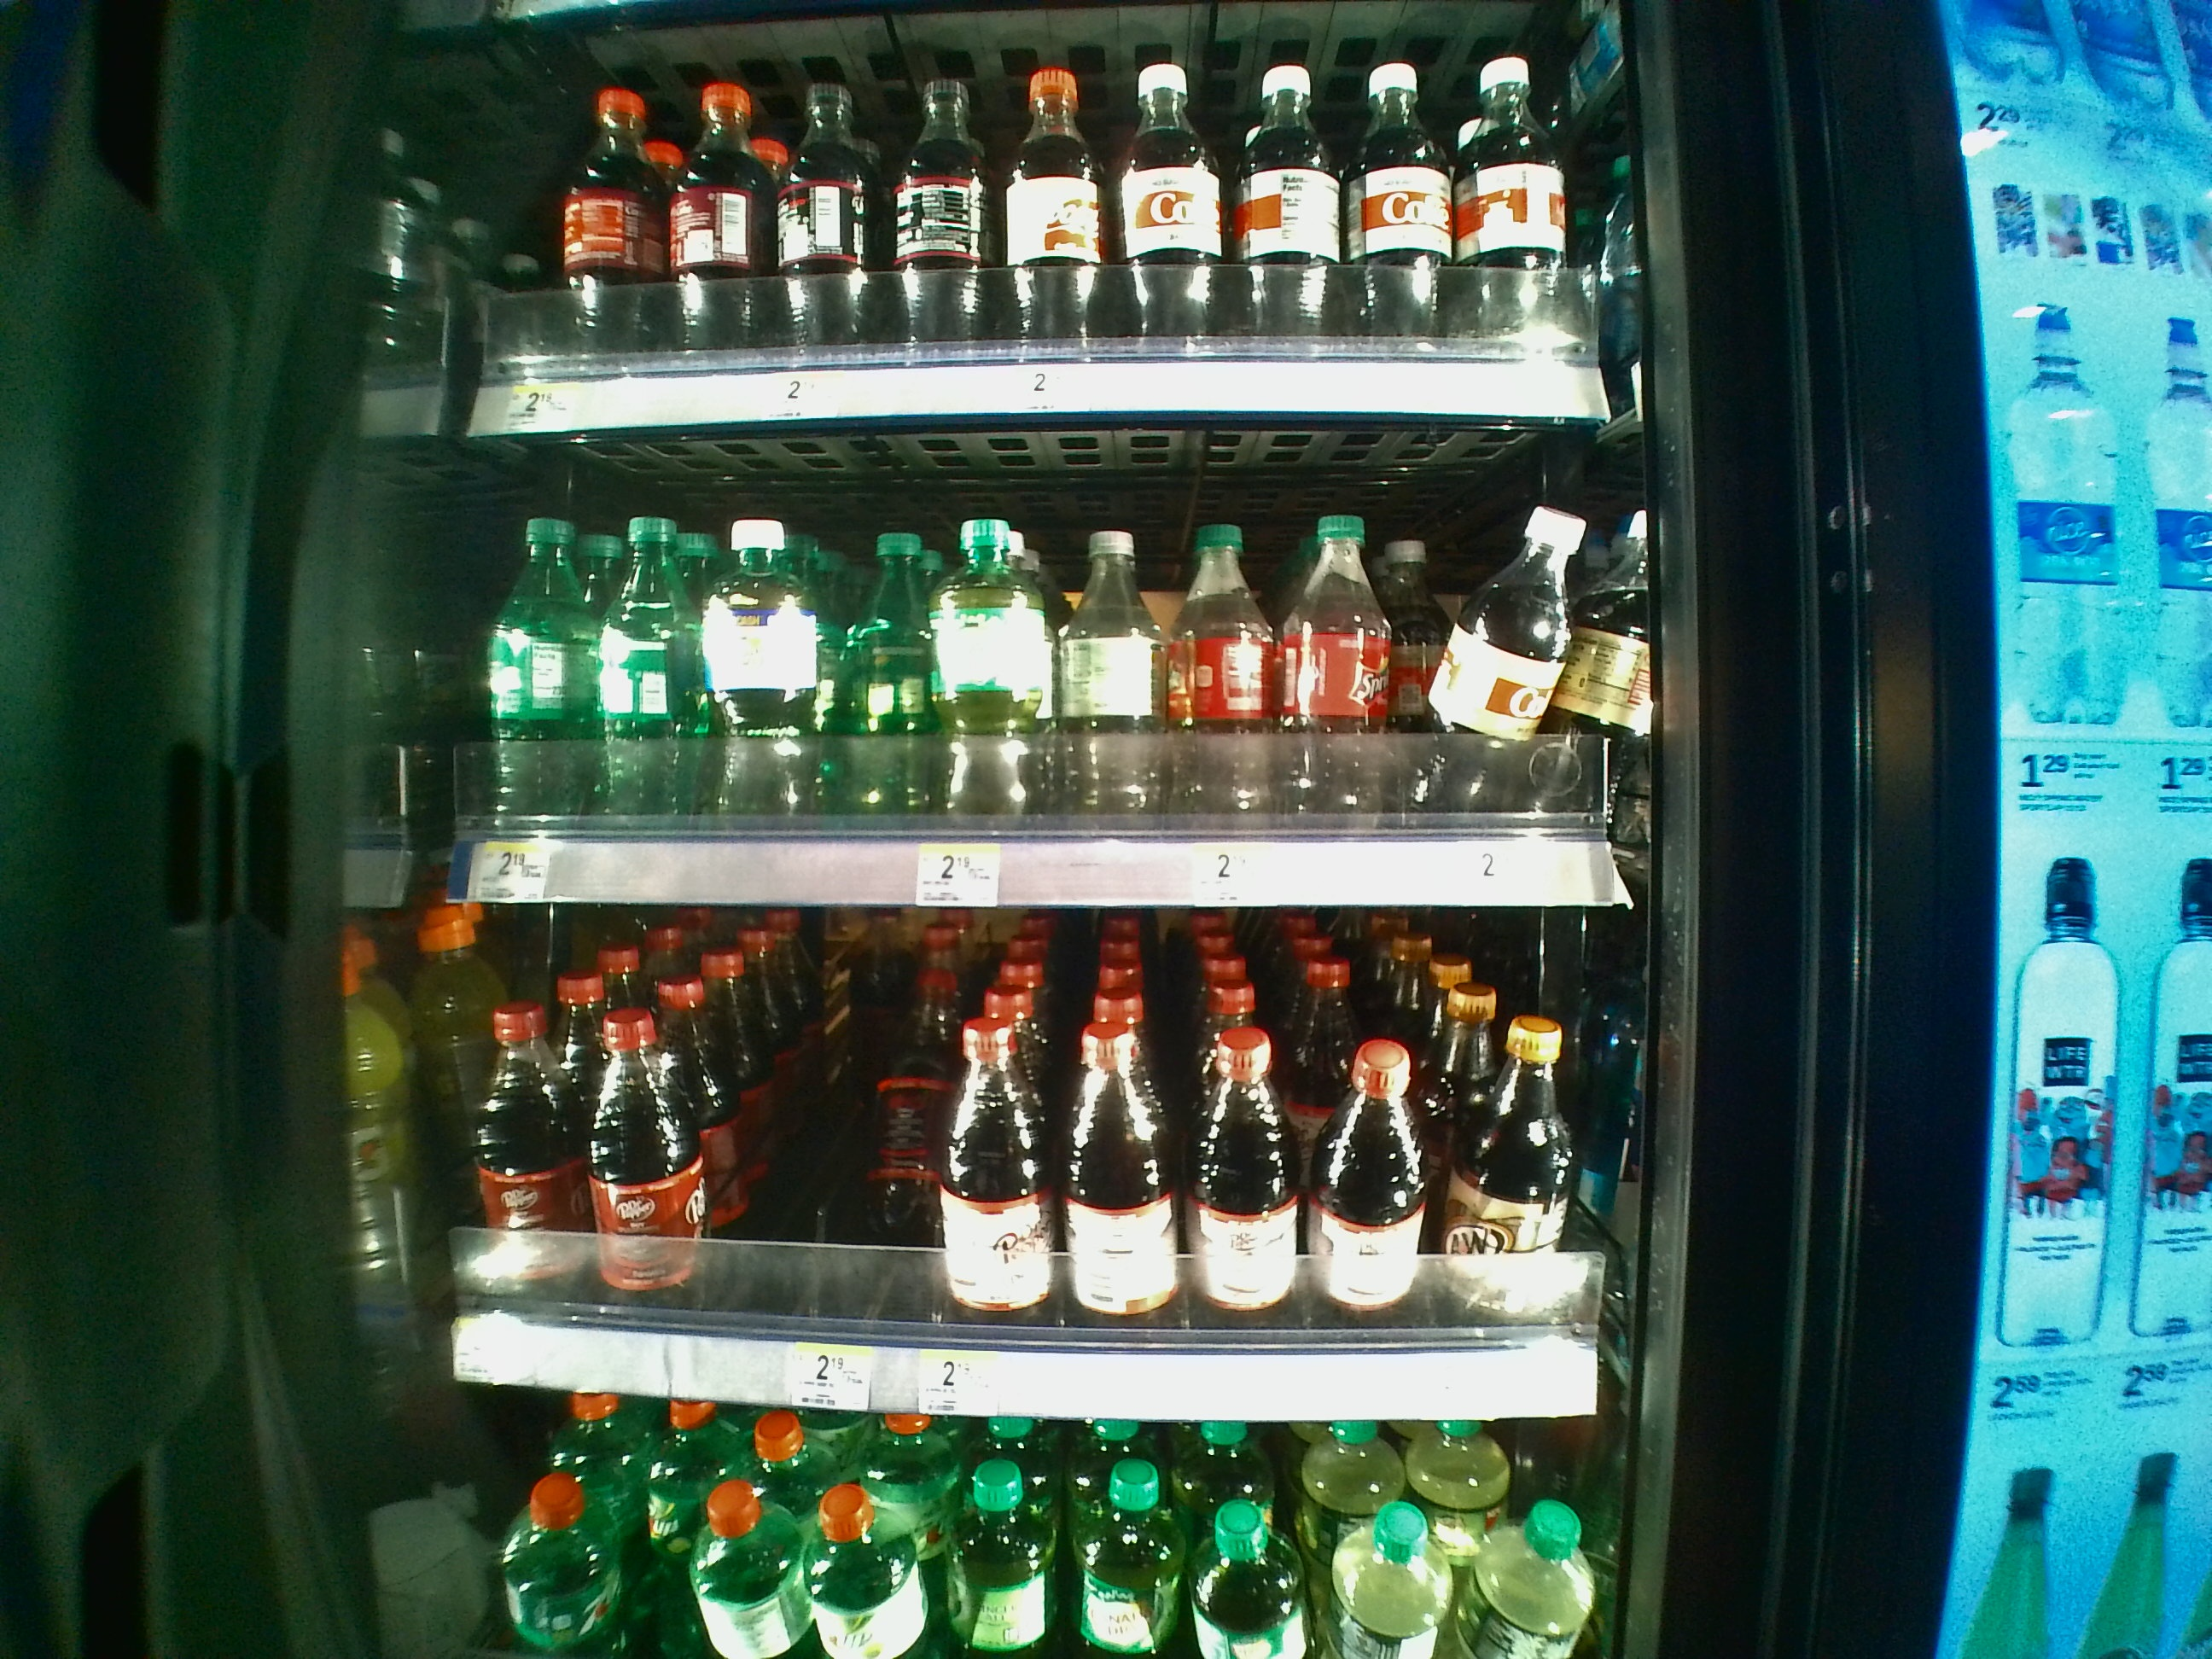shelf: (428, 913, 1655, 1427), (439, 437, 1656, 913)
